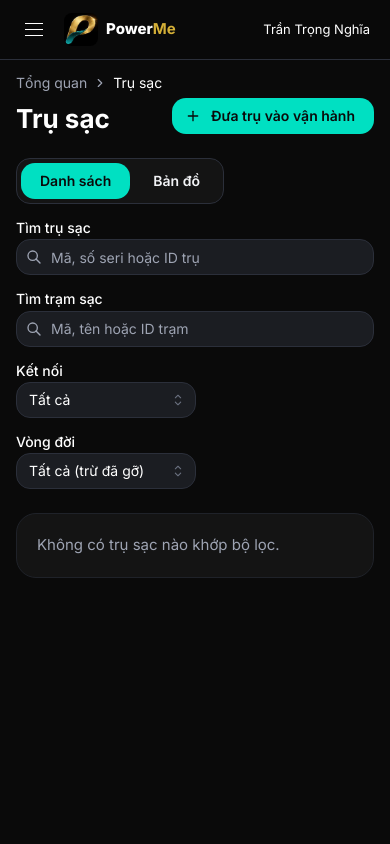
Test case: Onboard trụ sạc (màn 19) › opens from screen 18 and lists the Operator's stations; a bad serial is caught first
This screenshot has width=390, height=844.
Click the button "Đưa trụ vào vận hành" at (273, 116), box [172,98,374,134]
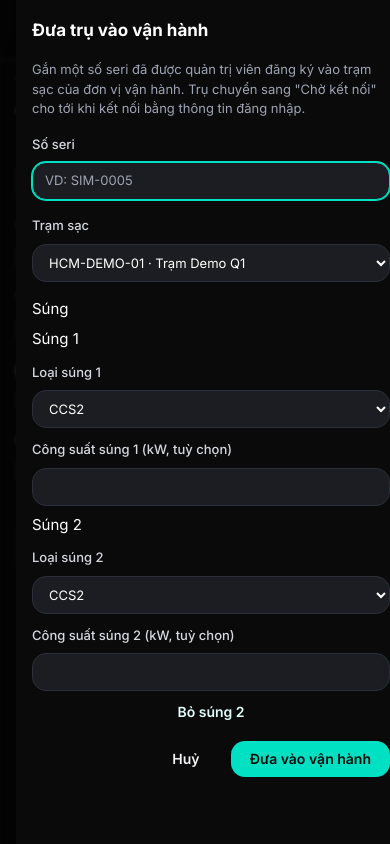
Type "ab" into the field labelled "Số seri" at (211, 181), box [32,162,389,200]
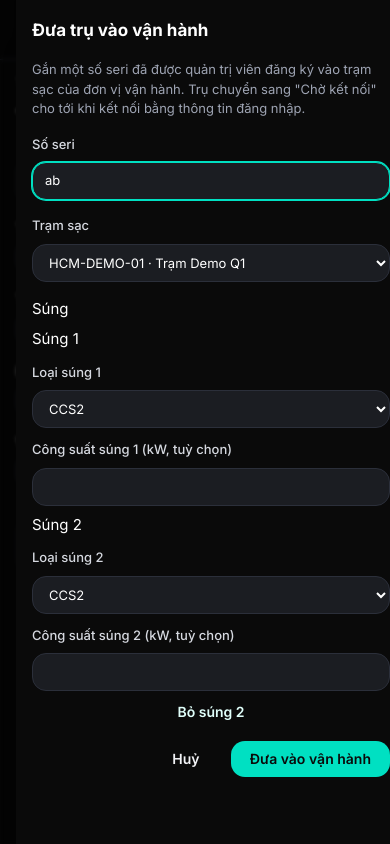
Click the button "Đưa vào vận hành" at (310, 759), box [231,741,389,777]
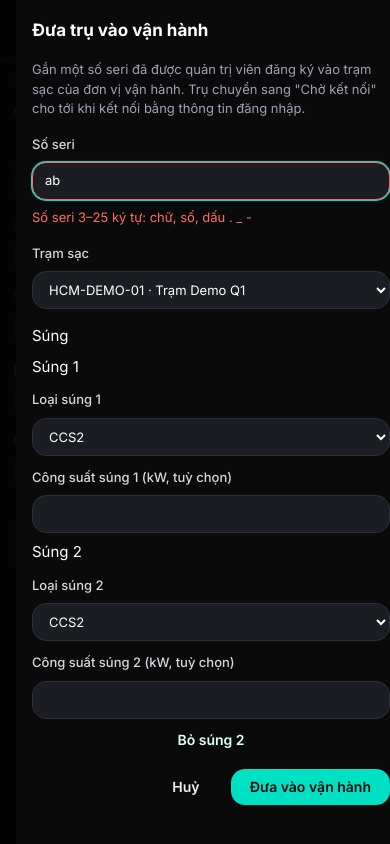
Expected: the message shows "Số seri 3–25 ký tự", [32,209,252,225]
